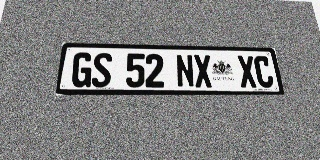2: (145, 54, 164, 87)
5: (126, 53, 145, 87)
C: (253, 56, 275, 88)
G: (70, 52, 93, 87)
N: (175, 54, 195, 87)
S: (91, 53, 112, 87)
X: (237, 55, 258, 88), (193, 55, 213, 88)
